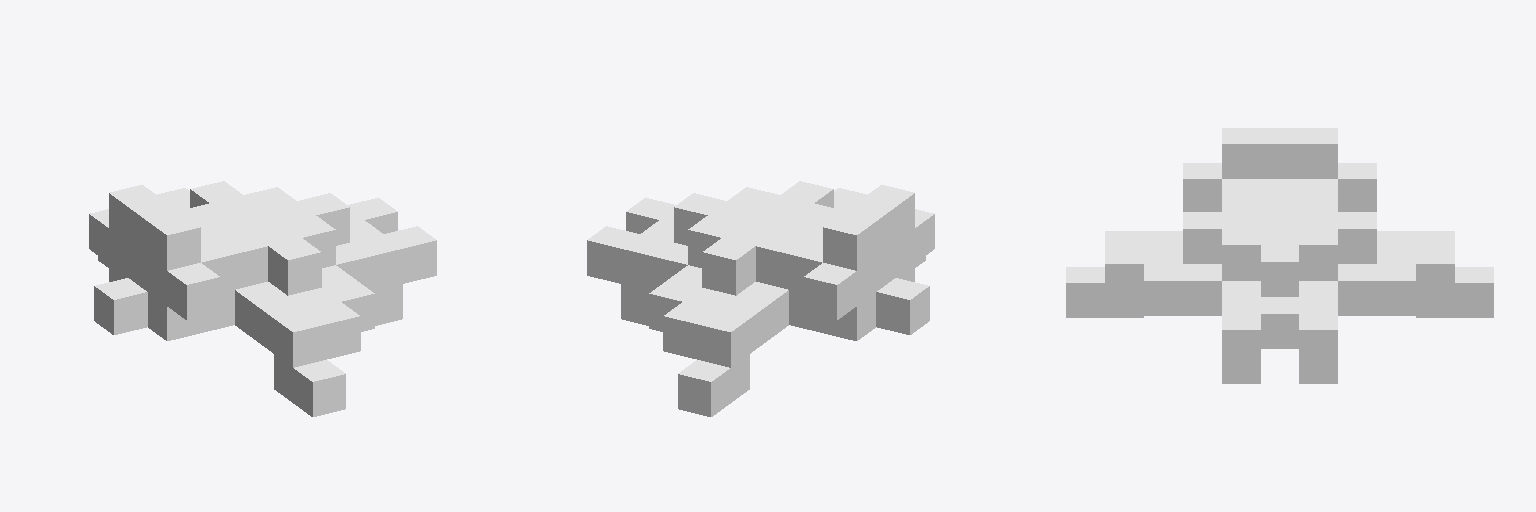
The model's file is pigeon-01.obj.
3 views of the same model, side by side, from view 1: azimuth 30°, elevation 25°; view 2: azimuth 150°, elevation 25°; view 3: azimuth 270°, elevation 25° (orthographic).
Size of the model in its own units: 9 by 4 by 11.